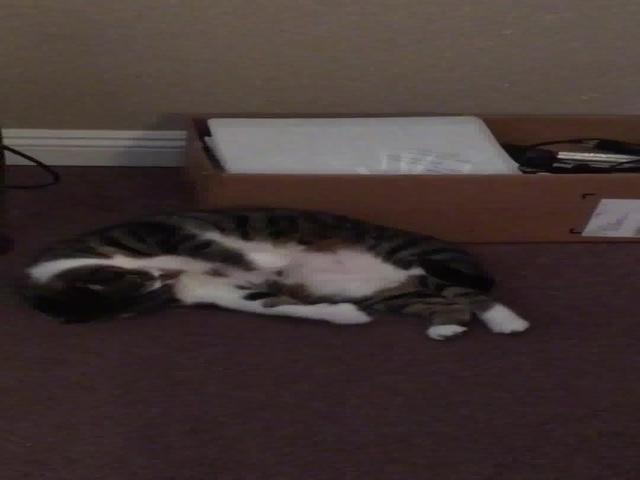playdoh: (16, 205, 526, 346)
